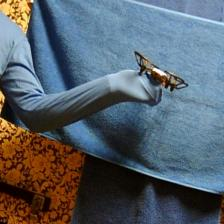drone: (131, 50, 187, 95)
